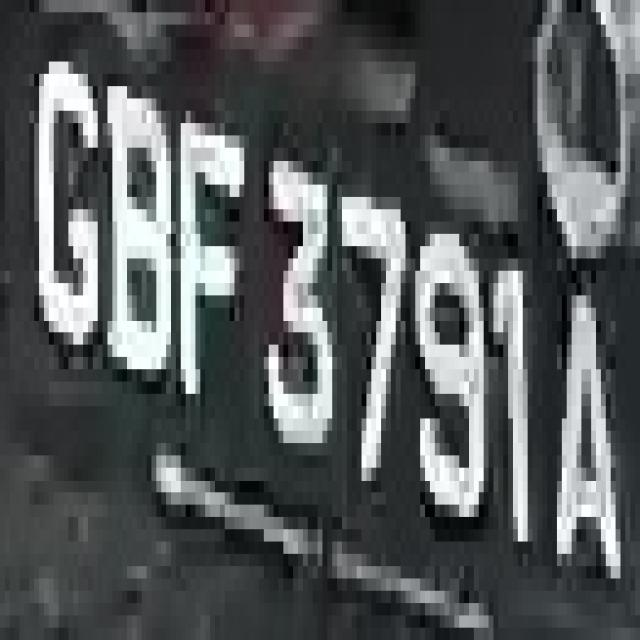1: (479, 172, 532, 566)
3: (269, 99, 332, 468)
7: (322, 148, 406, 504)
9: (406, 184, 494, 554)
A: (547, 234, 616, 591)
B: (107, 74, 176, 381)
F: (161, 74, 249, 406)
G: (24, 24, 108, 382)
